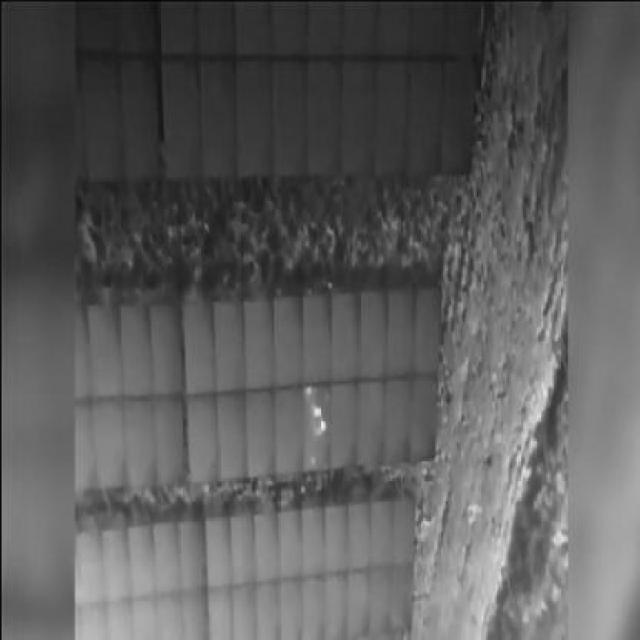hotspot: (317, 420, 328, 434), (302, 381, 312, 394), (311, 403, 320, 415)
